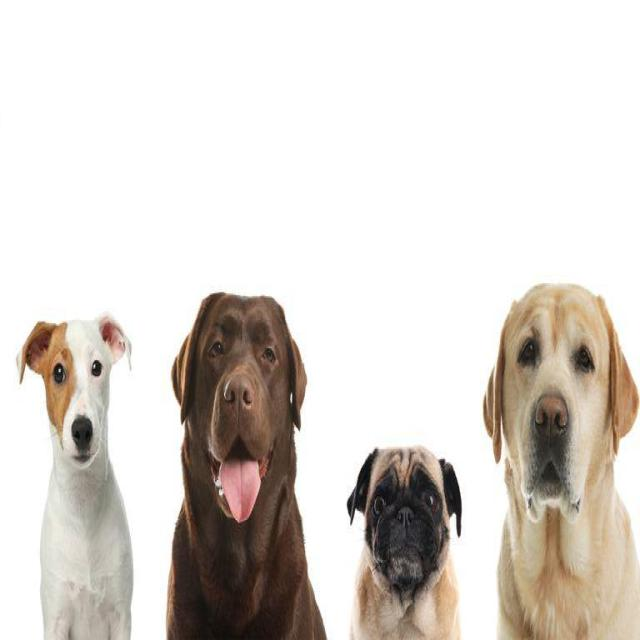Dog: (478, 274, 640, 532), (165, 278, 314, 535), (341, 434, 468, 617), (12, 299, 137, 479)
